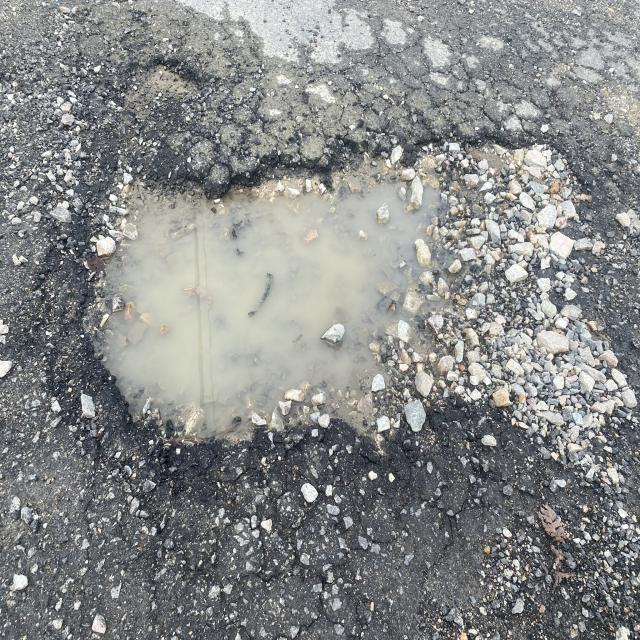Pothole: (52, 82, 640, 572)
